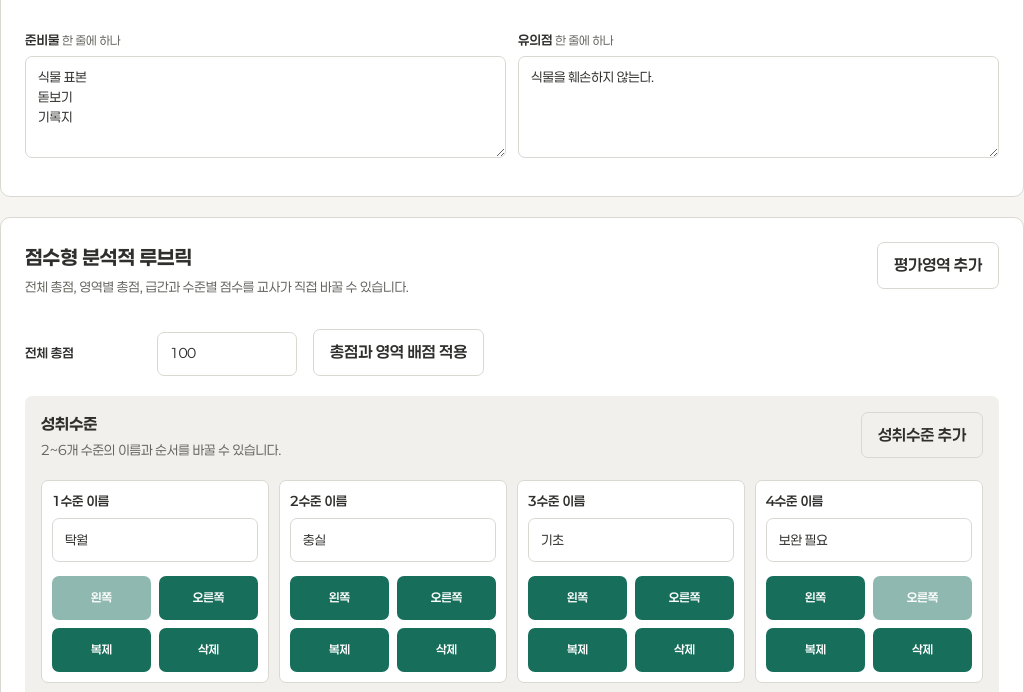
Test: 성취수준을 추가·복제·재정렬·삭제해도 모든 평가영역의 수준 id와 점수가 함께 움직인다
(page scrolled)
Click the button "성취수준 추가": x=922, y=435 x1=861 y1=412 x2=983 y2=458
(page scrolled)
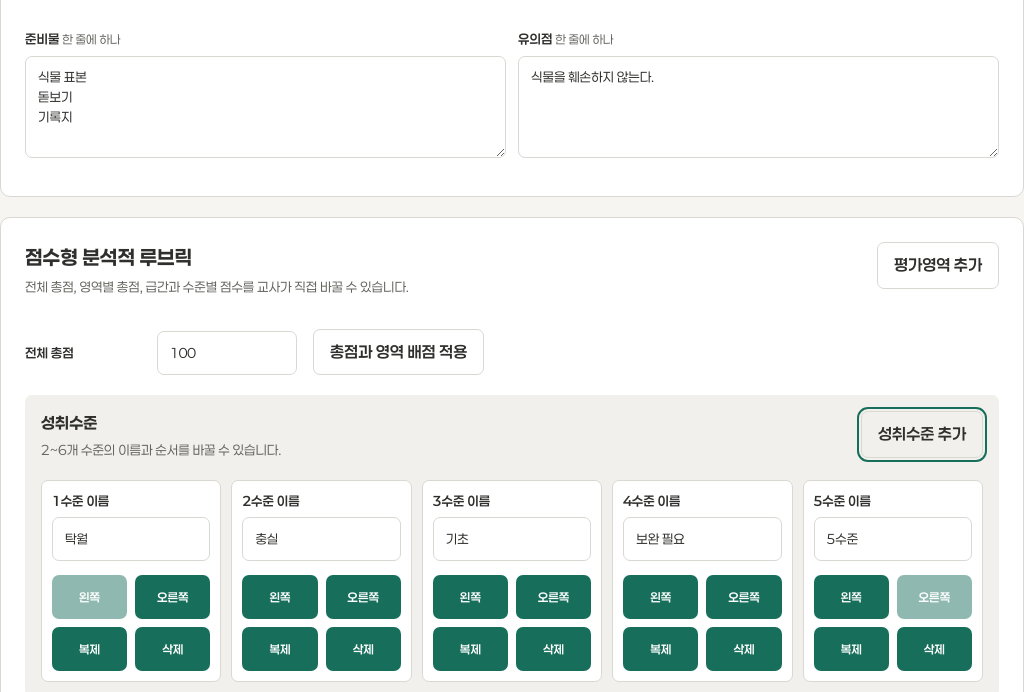
Check: the field labelled "5수준 이름" is shown, box x1=814 y1=517 x2=972 y2=561
Click the button with aria-label "5수준 복제": x=851, y=649 x1=814 y1=627 x2=889 y2=671
(page scrolled)
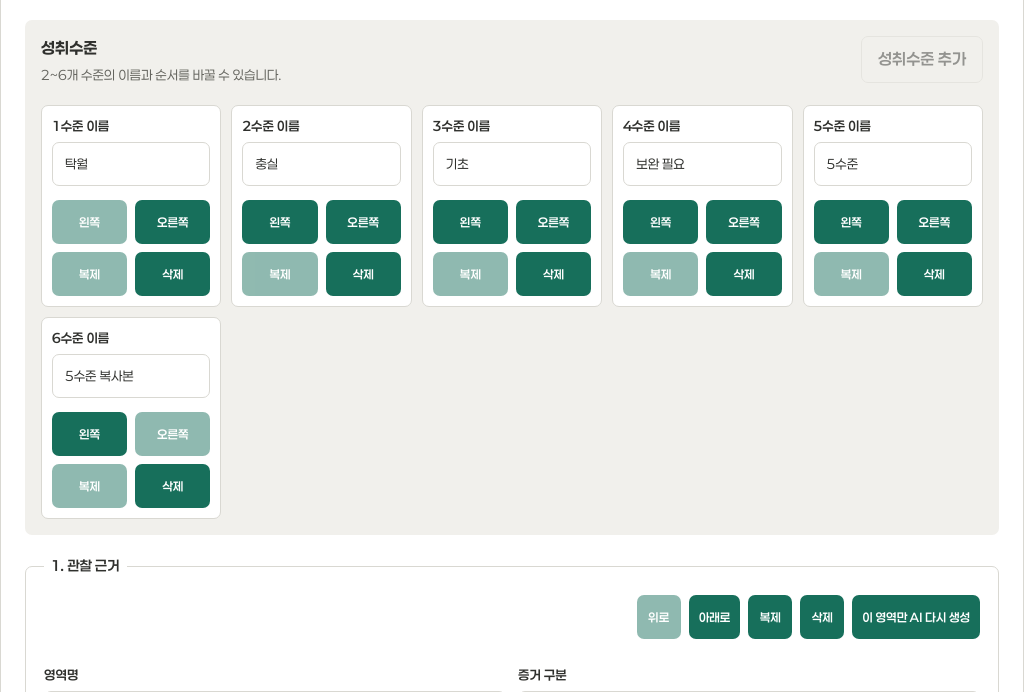
Check: the field labelled "6수준 이름" is shown, box x1=52 y1=354 x2=210 y2=398
Click the button with aria-label "6수준 왼쪽으로": x=90, y=434 x1=52 y1=412 x2=127 y2=456
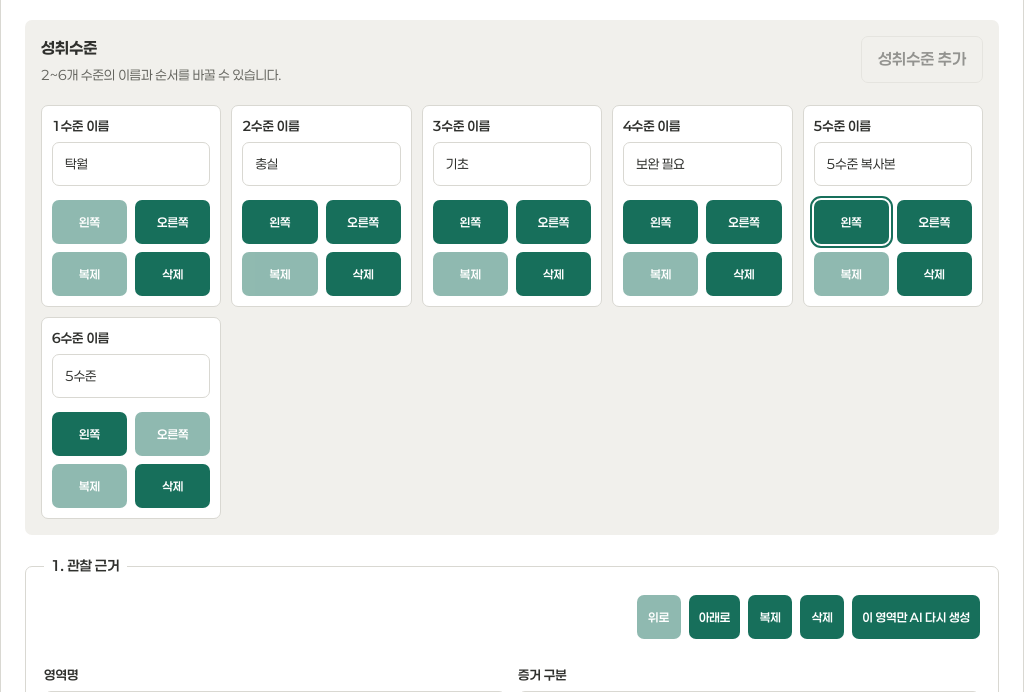
Click the button with aria-label "5수준 삭제": x=934, y=274 x1=897 y1=252 x2=972 y2=296
(page scrolled)
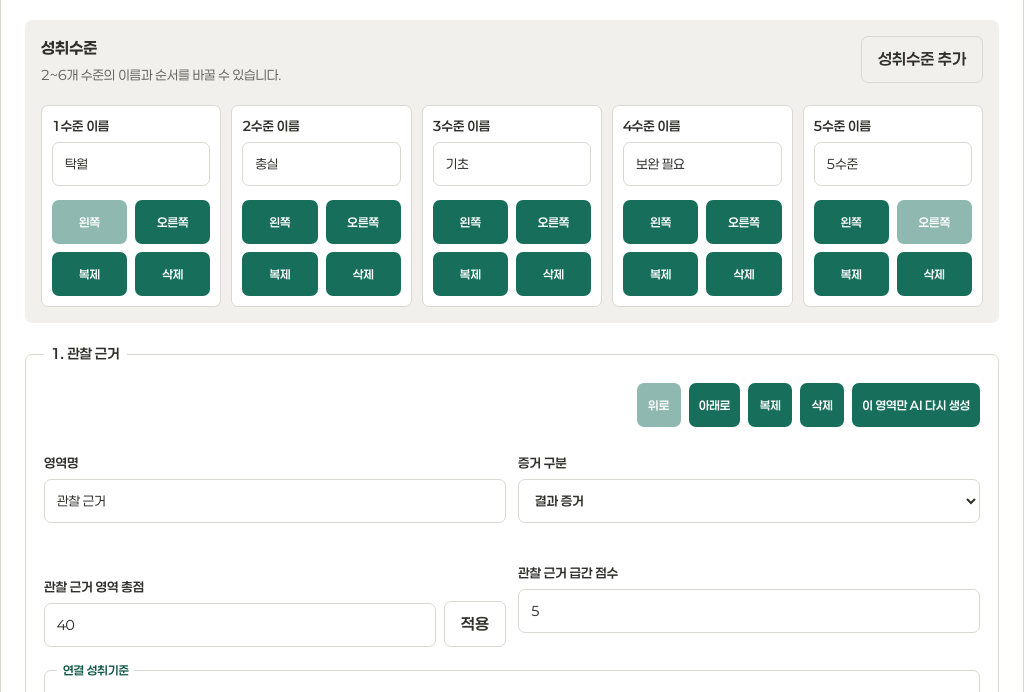
Check: the label labelled "6수준 이름" is gone
